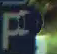Parking: (2, 5, 26, 53)
